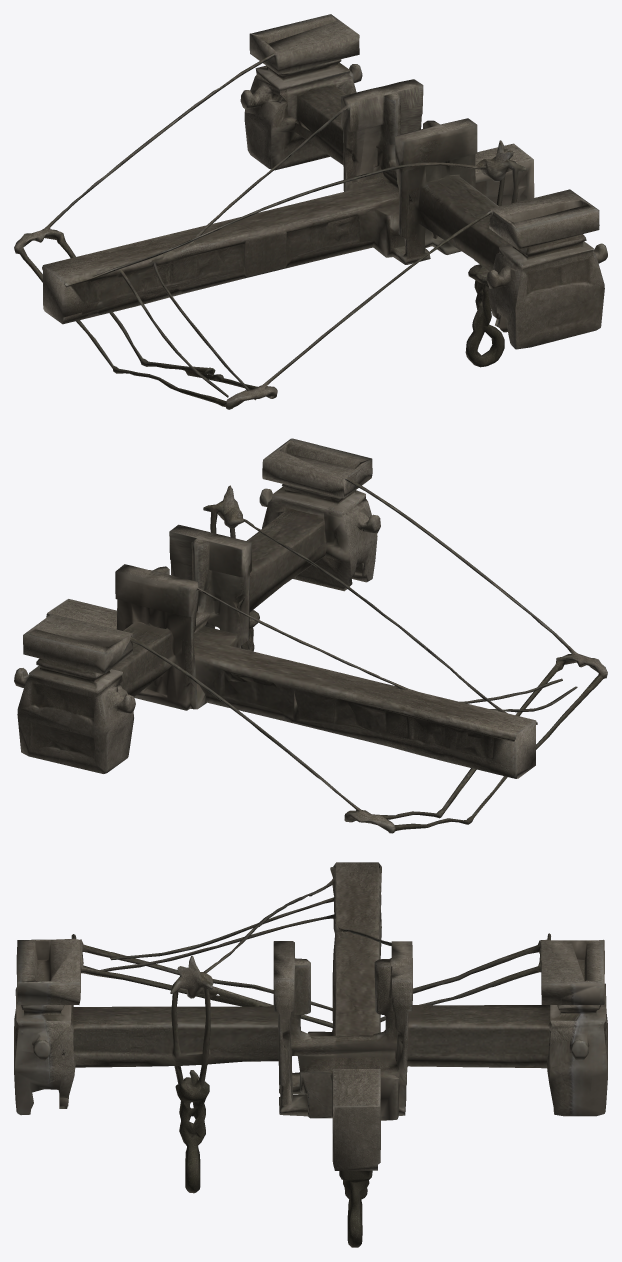
Rendered from crane.glb.
3 renders of one model, top to bottom at view 1: azimuth 30°, elevation 25°; view 2: azimuth 150°, elevation 25°; view 3: azimuth 270°, elevation 25°, orthographic. The views are drawn at different scales.
Size of the model in its own units: 1.9 by 0.8908 by 1.9.
1 material, 1 textured.
